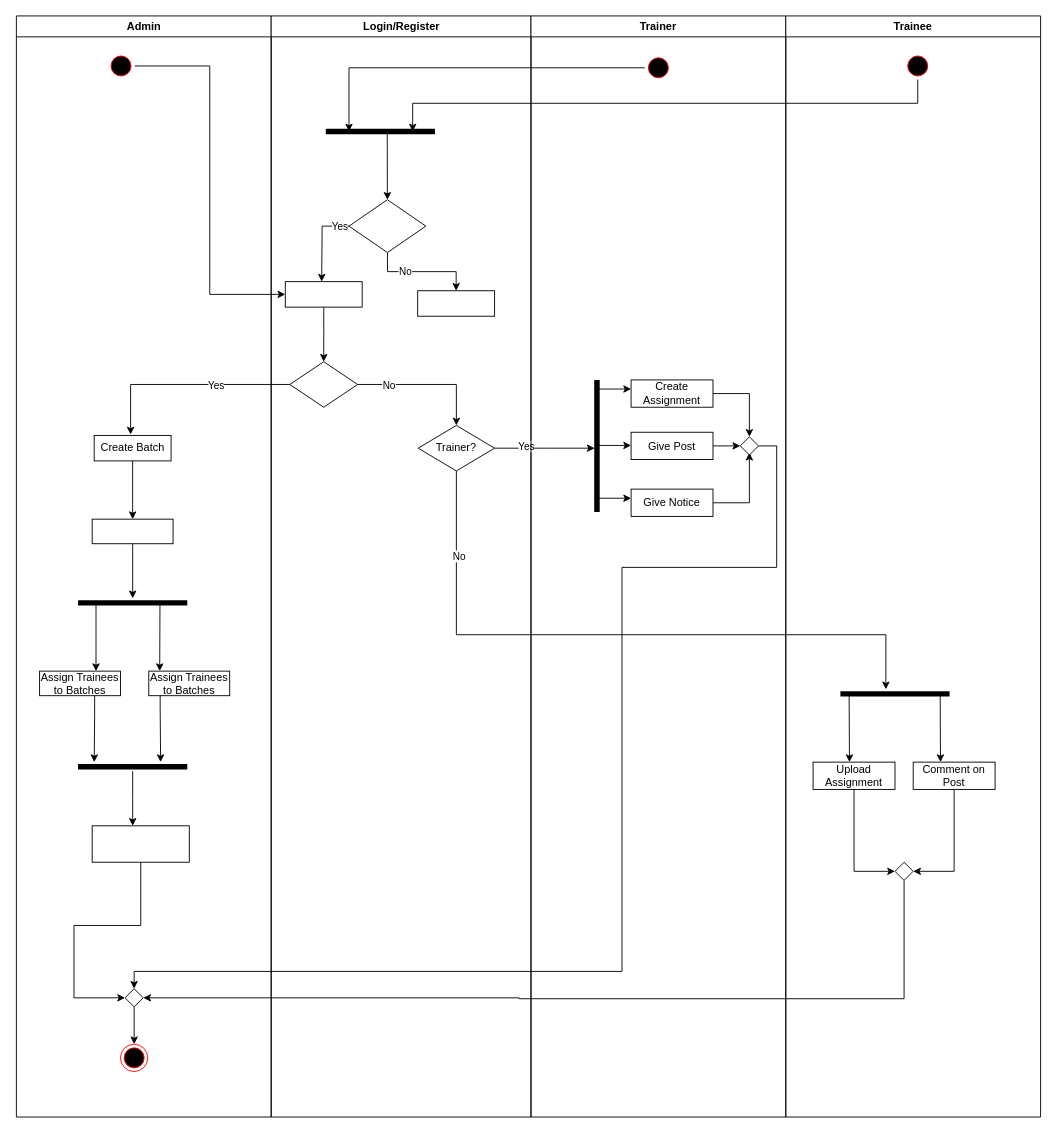
Some shapes in this 1057 by 1133 pixel diagram are drawn without their labels. Each missing label, with the centre of its shape:
"Admin?" goes at (x=323, y=384).
"Create Course" goes at (x=132, y=531).
"Login" goes at (x=323, y=294).
"Register" goes at (x=456, y=303).
"Registered?" goes at (x=387, y=226).
"Scheduling Batch and Course" goes at (x=140, y=843).
